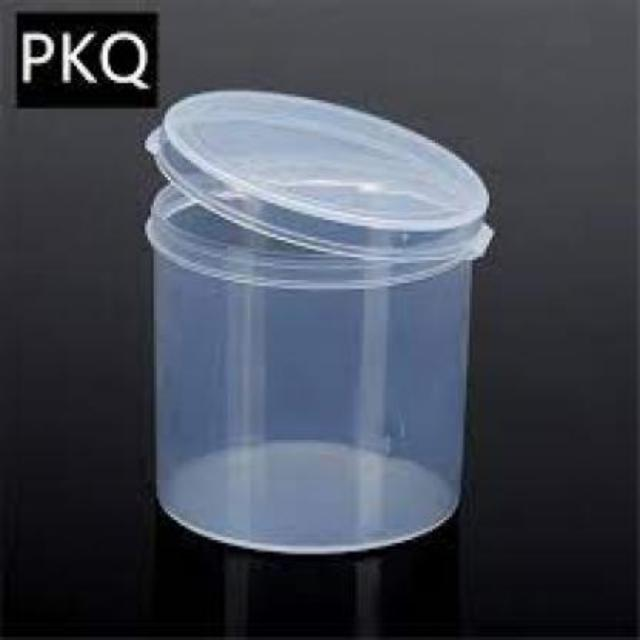plastic_box: (142, 89, 498, 555)
